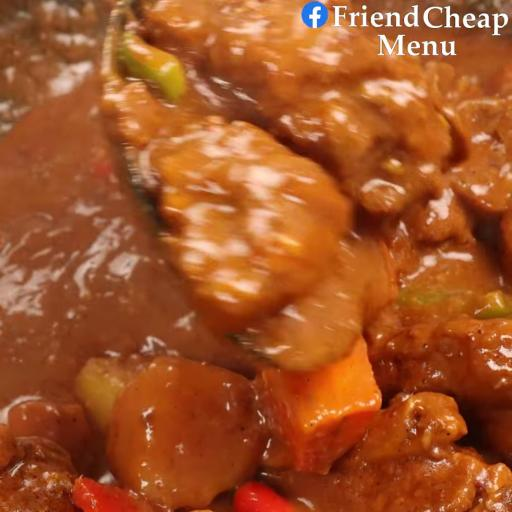pork caldereta: (0, 64, 511, 512)
